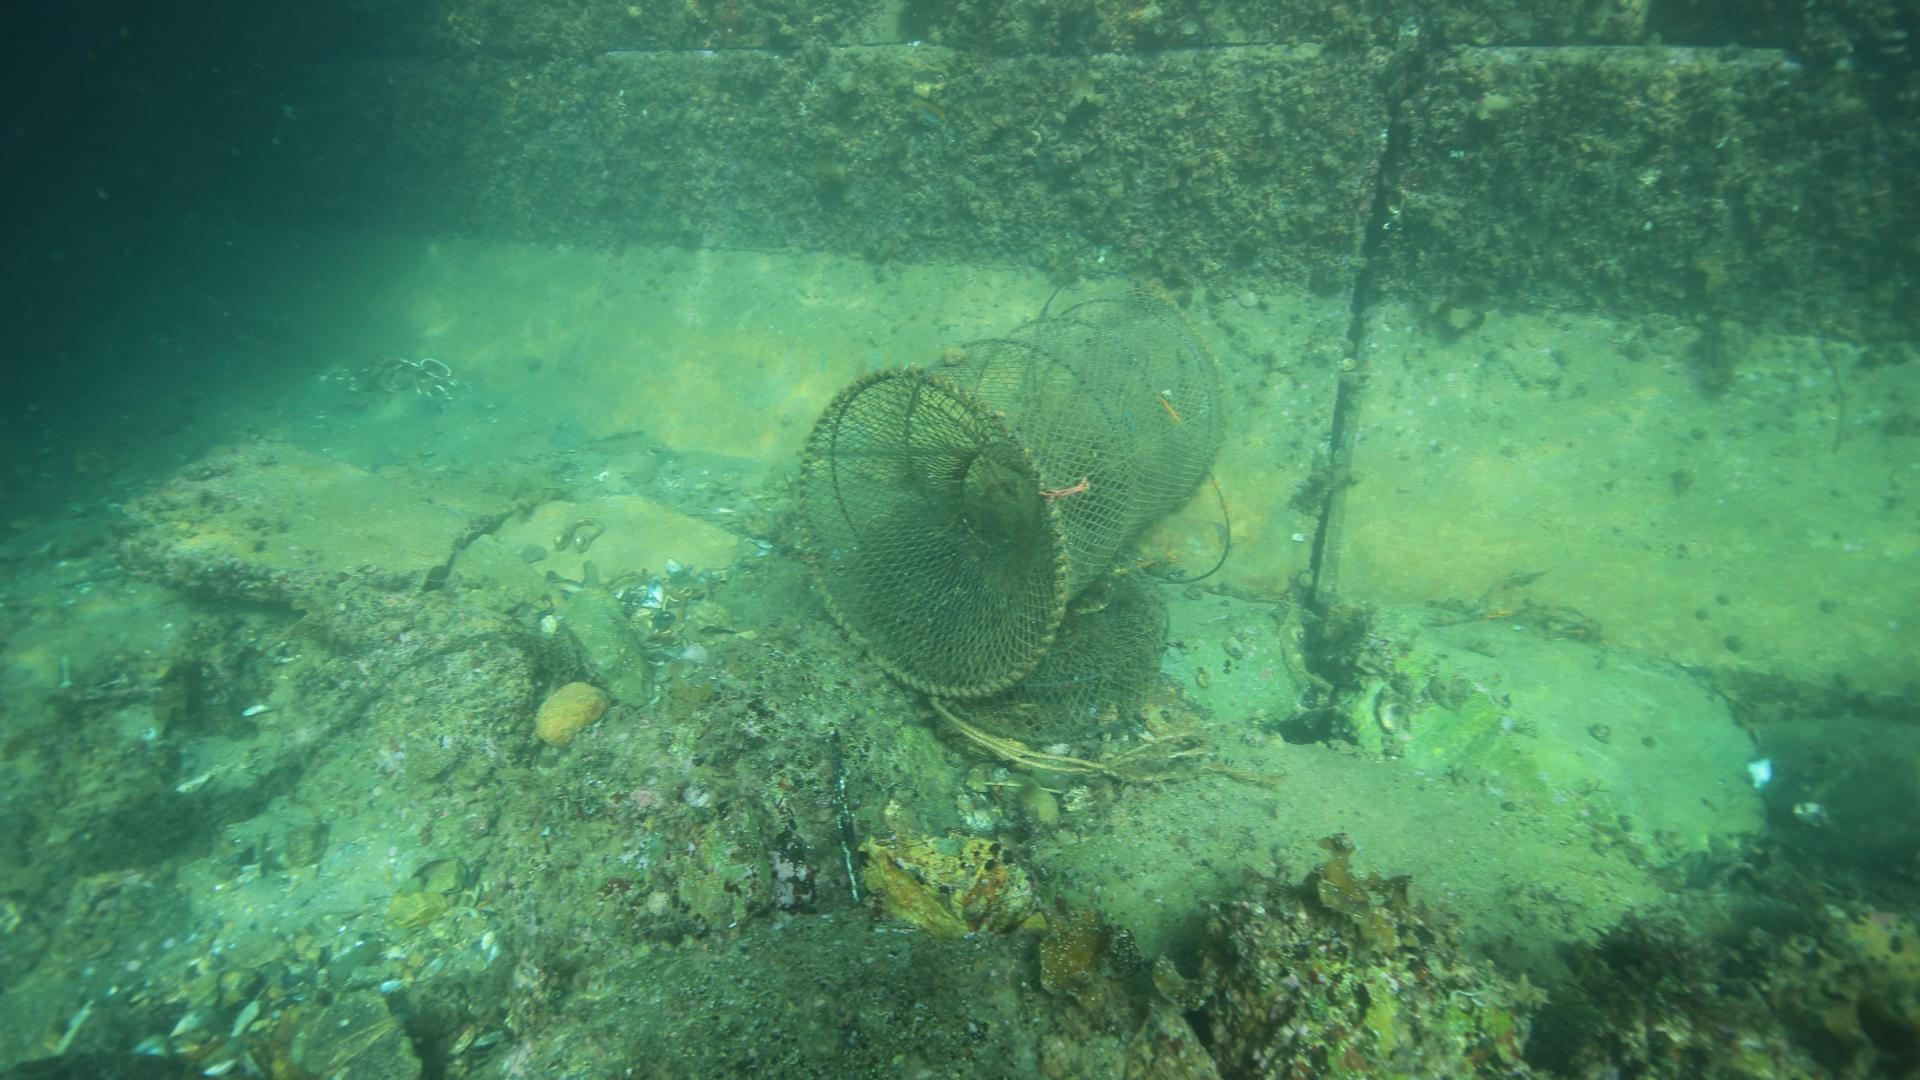spring fish trap: (794, 276, 1228, 696)
